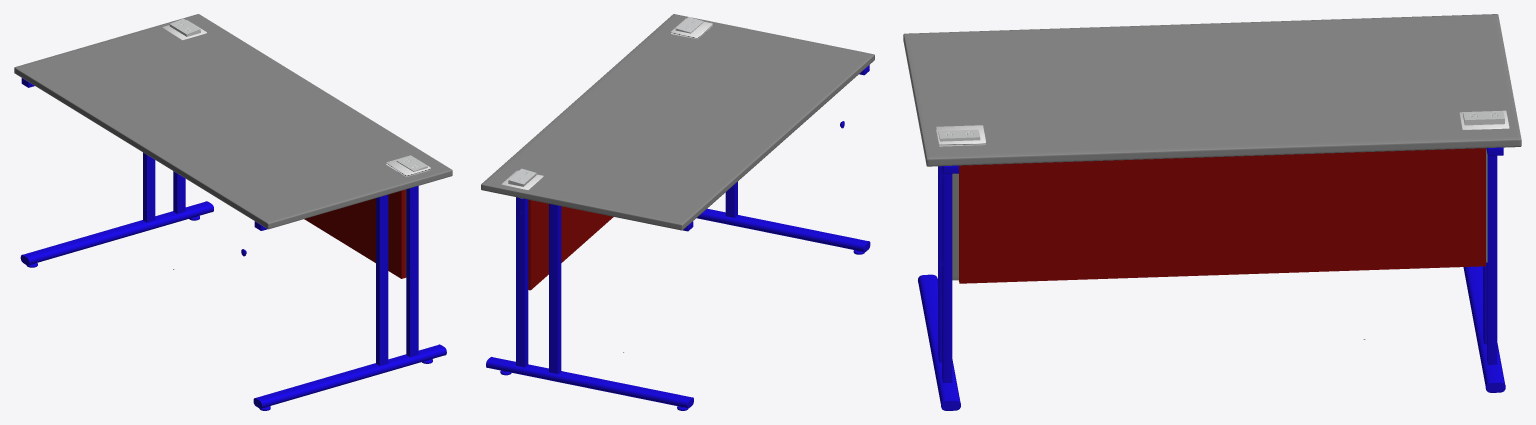
3 renders of one model, left to right at view 1: azimuth 30°, elevation 25°; view 2: azimuth 150°, elevation 25°; view 3: azimuth 270°, elevation 25°, orthographic. The views are drawn at different scales.
Visible parts, largest first — view 1: Box036.001, Box028.001, Cube; view 2: Box036.001, Box028.001, Cube; view 3: Box036.001, Cube, Box028.001, Cube.001, SmartPlugDue_final:plug_SmartPlugCompact_final:whitePlastic.
Part boxes in pixels (box(x1,y1,x2,y2)): Box036.001: box(14, 14, 452, 276); Box028.001: box(20, 78, 446, 410); Cube: box(304, 189, 406, 278); Box036.001: box(481, 14, 874, 230); Box028.001: box(486, 65, 870, 410); Cube: box(528, 199, 613, 290); Box036.001: box(903, 14, 1521, 280); Cube: box(959, 148, 1485, 283); Box028.001: box(918, 147, 1505, 410); Cube.001: box(936, 125, 985, 146); SmartPlugDue_final:plug_SmartPlugCompact_final:whitePlastic: box(1463, 111, 1504, 125).
Bounding box in the file's own units: 0.352 × 0.299 × 0.6332.
